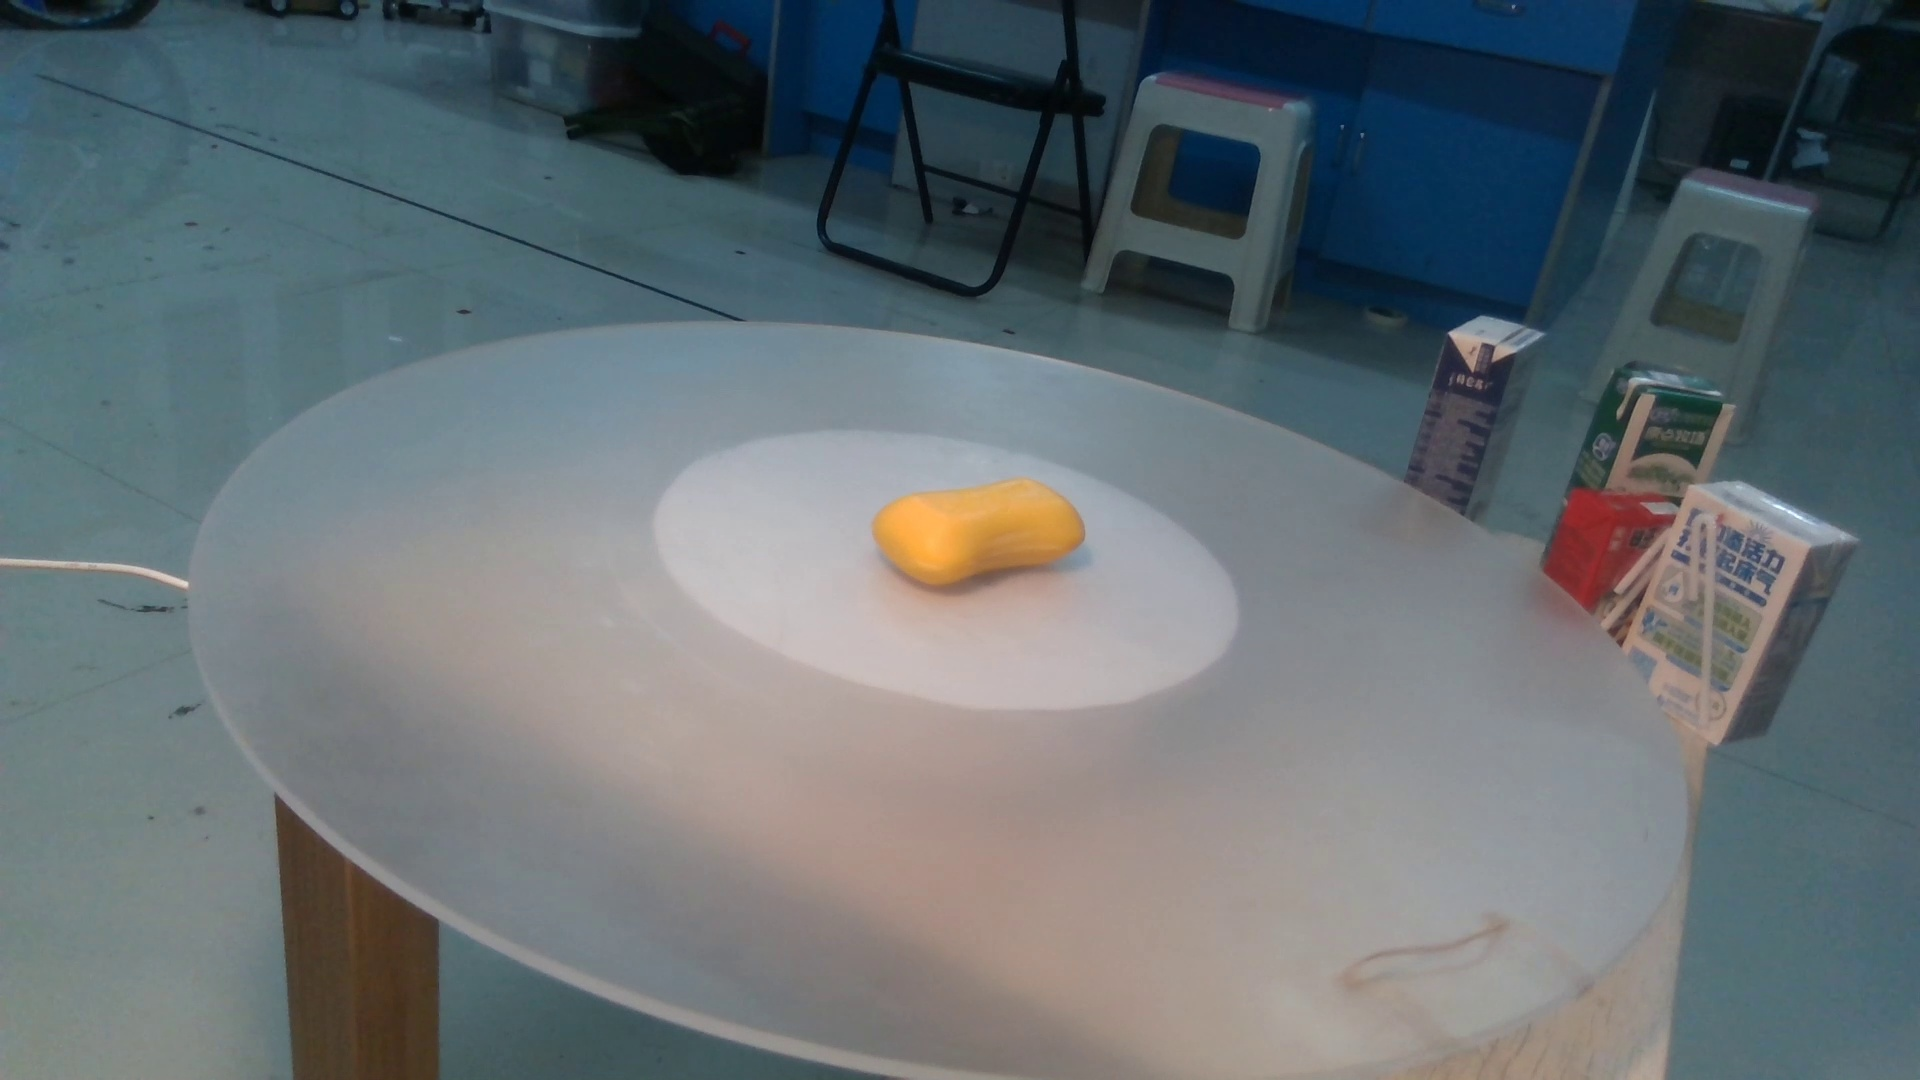CA003_1: (847, 446, 1096, 613)
